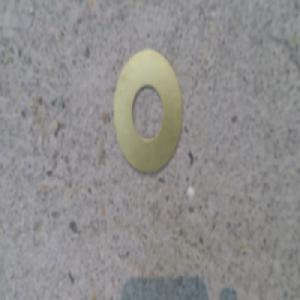Washer: (113, 48, 184, 176)
